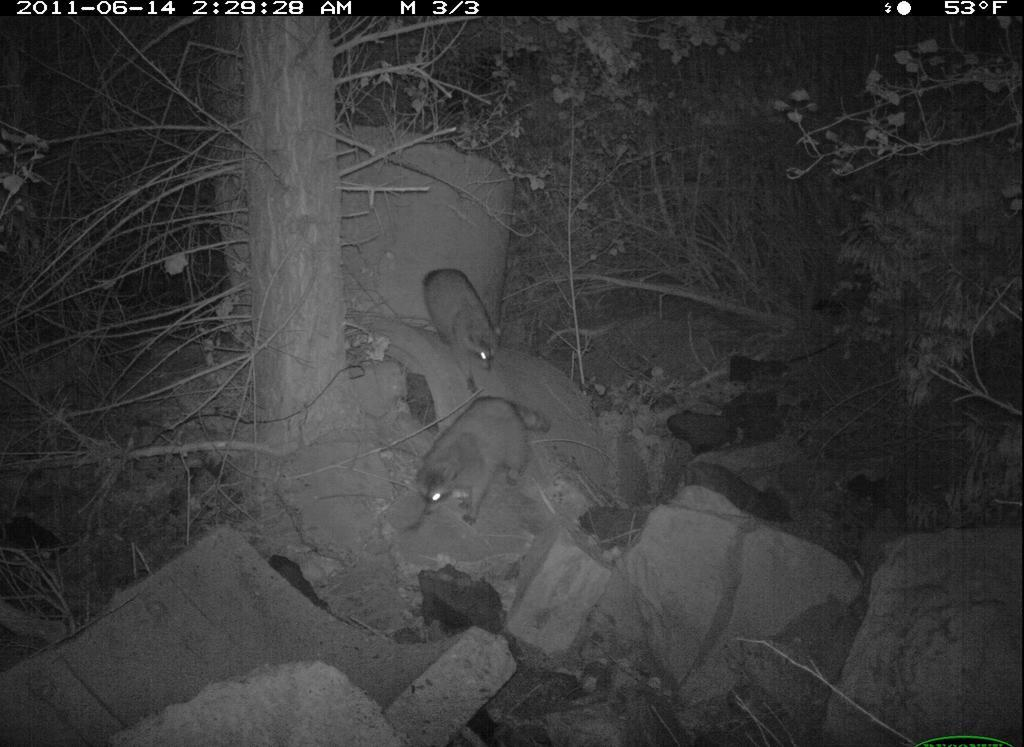raccoon: (413, 397, 557, 530)
